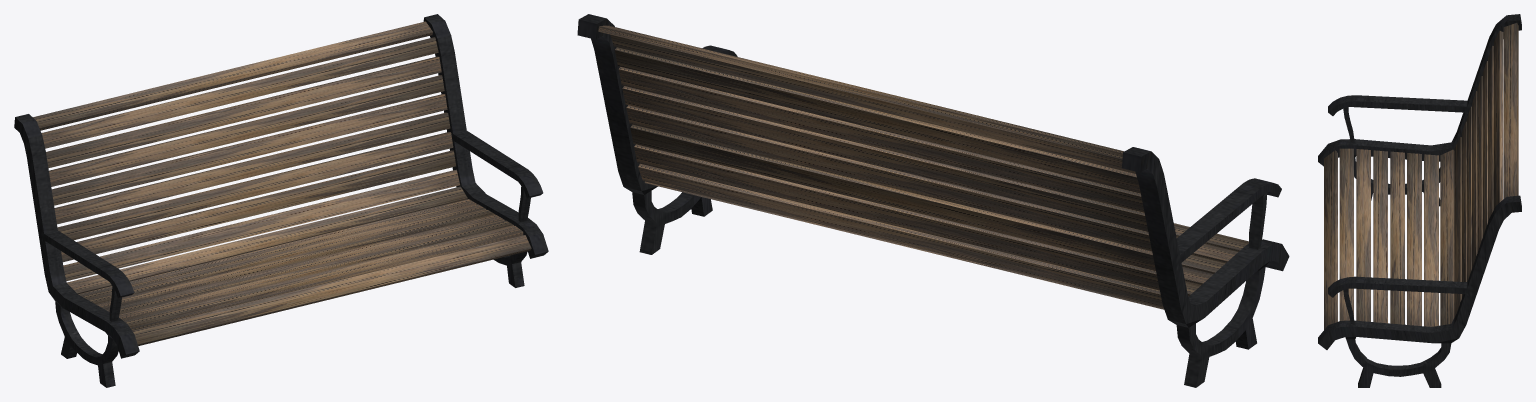
The model's file is obj_bench.fbx.
3 renders of one model, left to right at view 1: azimuth 30°, elevation 25°; view 2: azimuth 150°, elevation 25°; view 3: azimuth 270°, elevation 25°, orthographic. The views are drawn at different scales.
Visible parts, largest first — view 1: pCube32; view 2: pCube32; view 3: pCube32.
Part boxes in pixels (x1,y1,x2,y2): pCube32: (14, 14, 548, 387); pCube32: (577, 14, 1289, 387); pCube32: (1318, 14, 1521, 387).
Bounding box in the file's own units: 5.73 × 2.67 × 2.63.
Materials: 1 (1 with a texture image).
